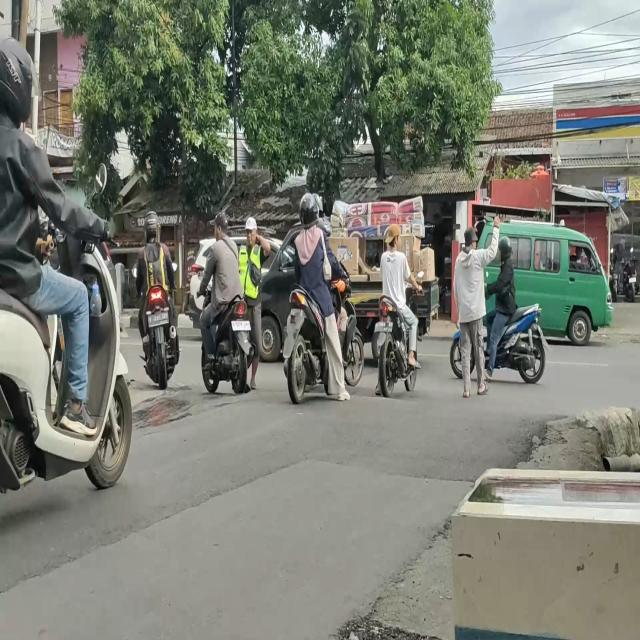helmet: (297, 191, 323, 227), (144, 212, 162, 244)
no-helmet: (0, 36, 34, 120), (384, 221, 400, 250), (498, 237, 513, 267), (214, 215, 228, 241)
